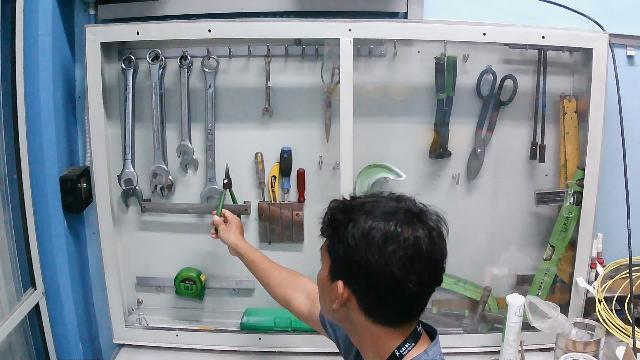tang_cucut_lancip_2: (209, 163, 244, 230)
